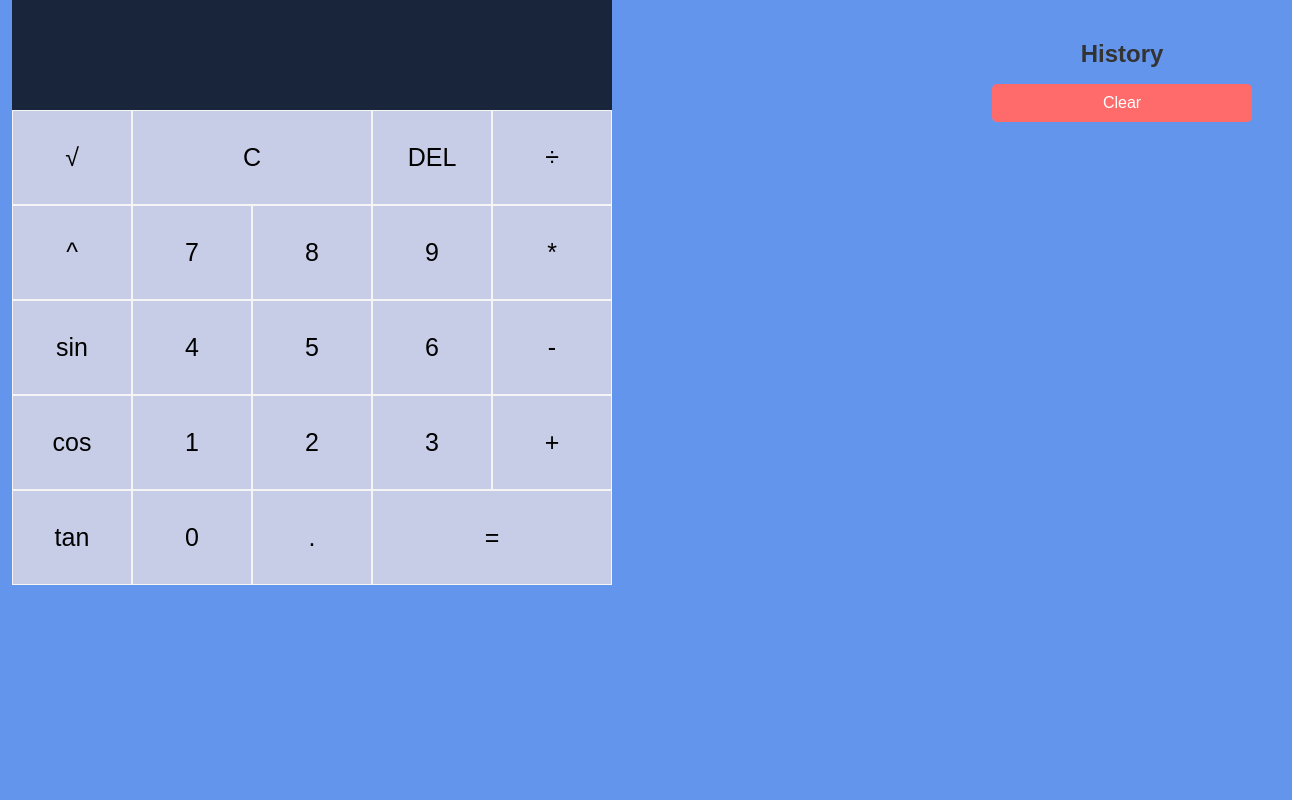
Test: Calculator Component › adds numbers when clicked
What coordinates should you click on to do the following:
click the button "1"
I would click on:
 (192, 442)
Its box is [132,395,252,490].
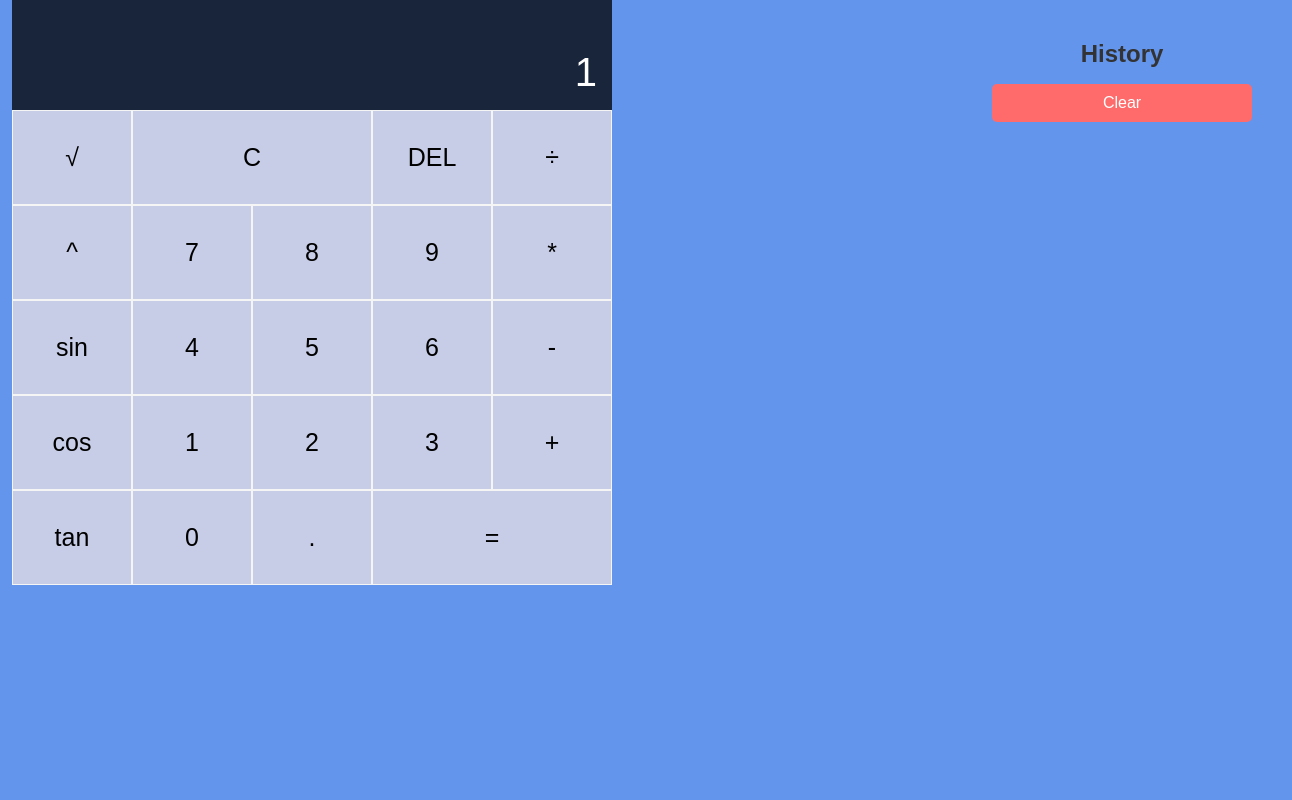
What coordinates should you click on to do the following:
click the button "2"
I would click on:
 (312, 442)
Its box is [252,395,372,490].
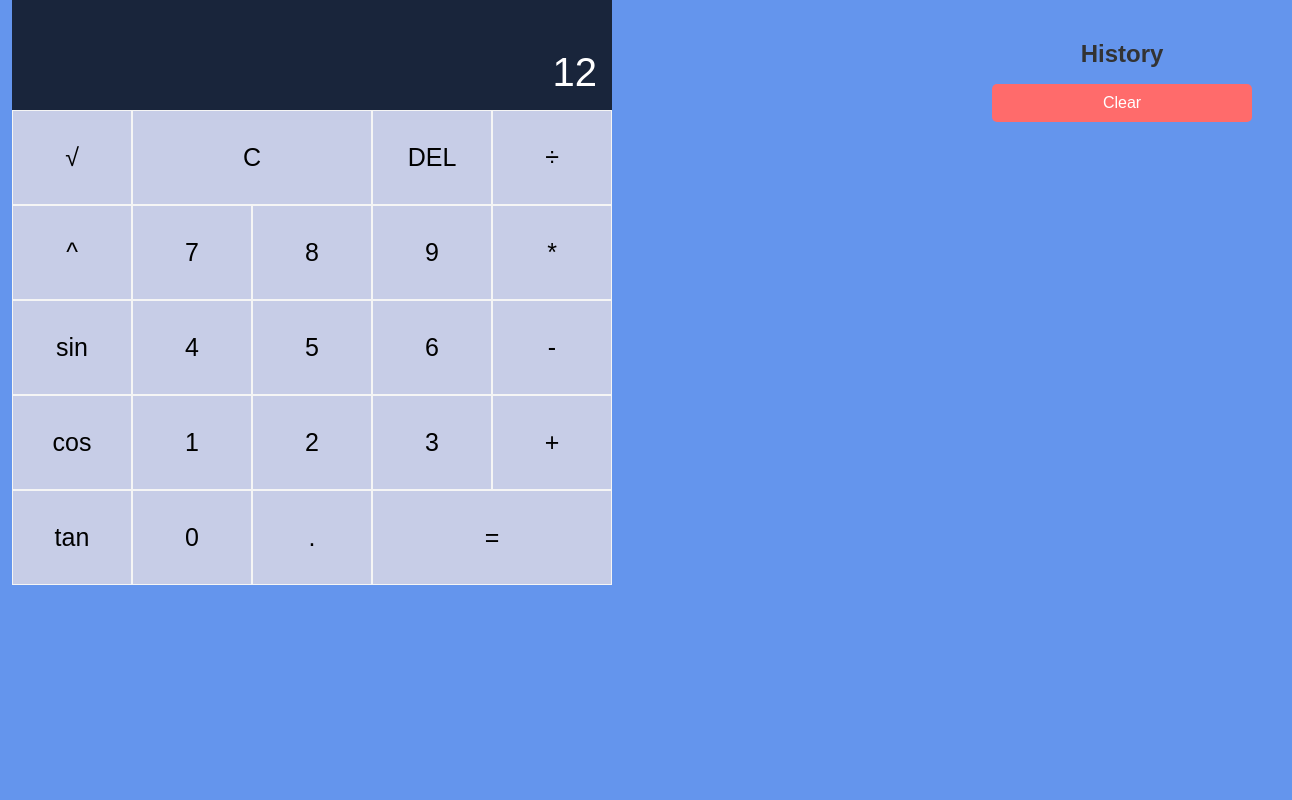
Expected: the text "12" is shown, [552,50,597,95]
